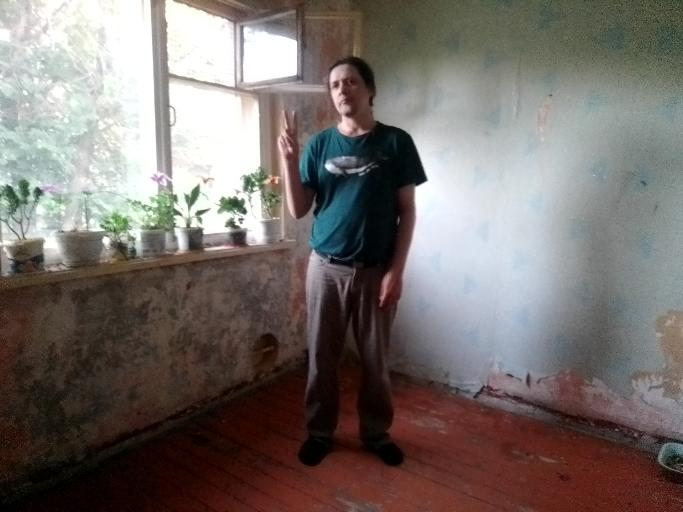no_gesture: (379, 266, 404, 310)
peace: (274, 108, 300, 160)
